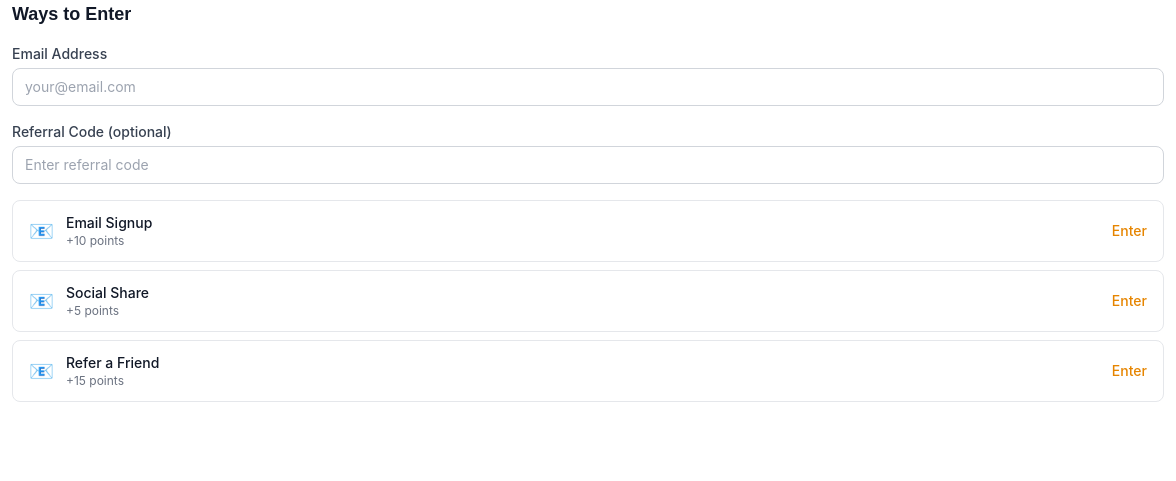
Scenario: GiveawayEntryForm › shows error when email_signup clicked without email
Click the button with test id "entry-method-email_signup": (109, 222) [12,200,1164,262]
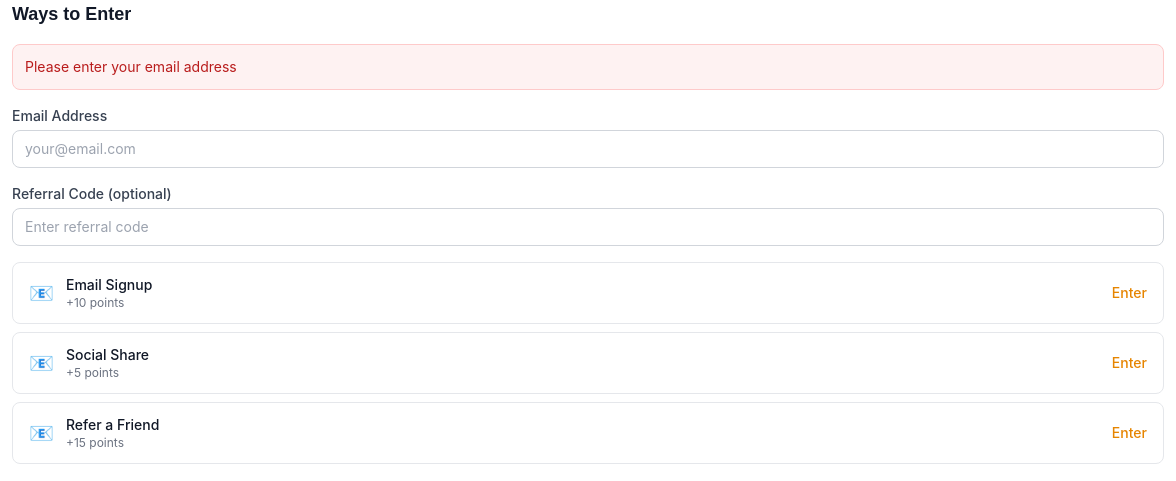
Now the text "Please enter your email address" is shown, box [12,44,1164,90]
